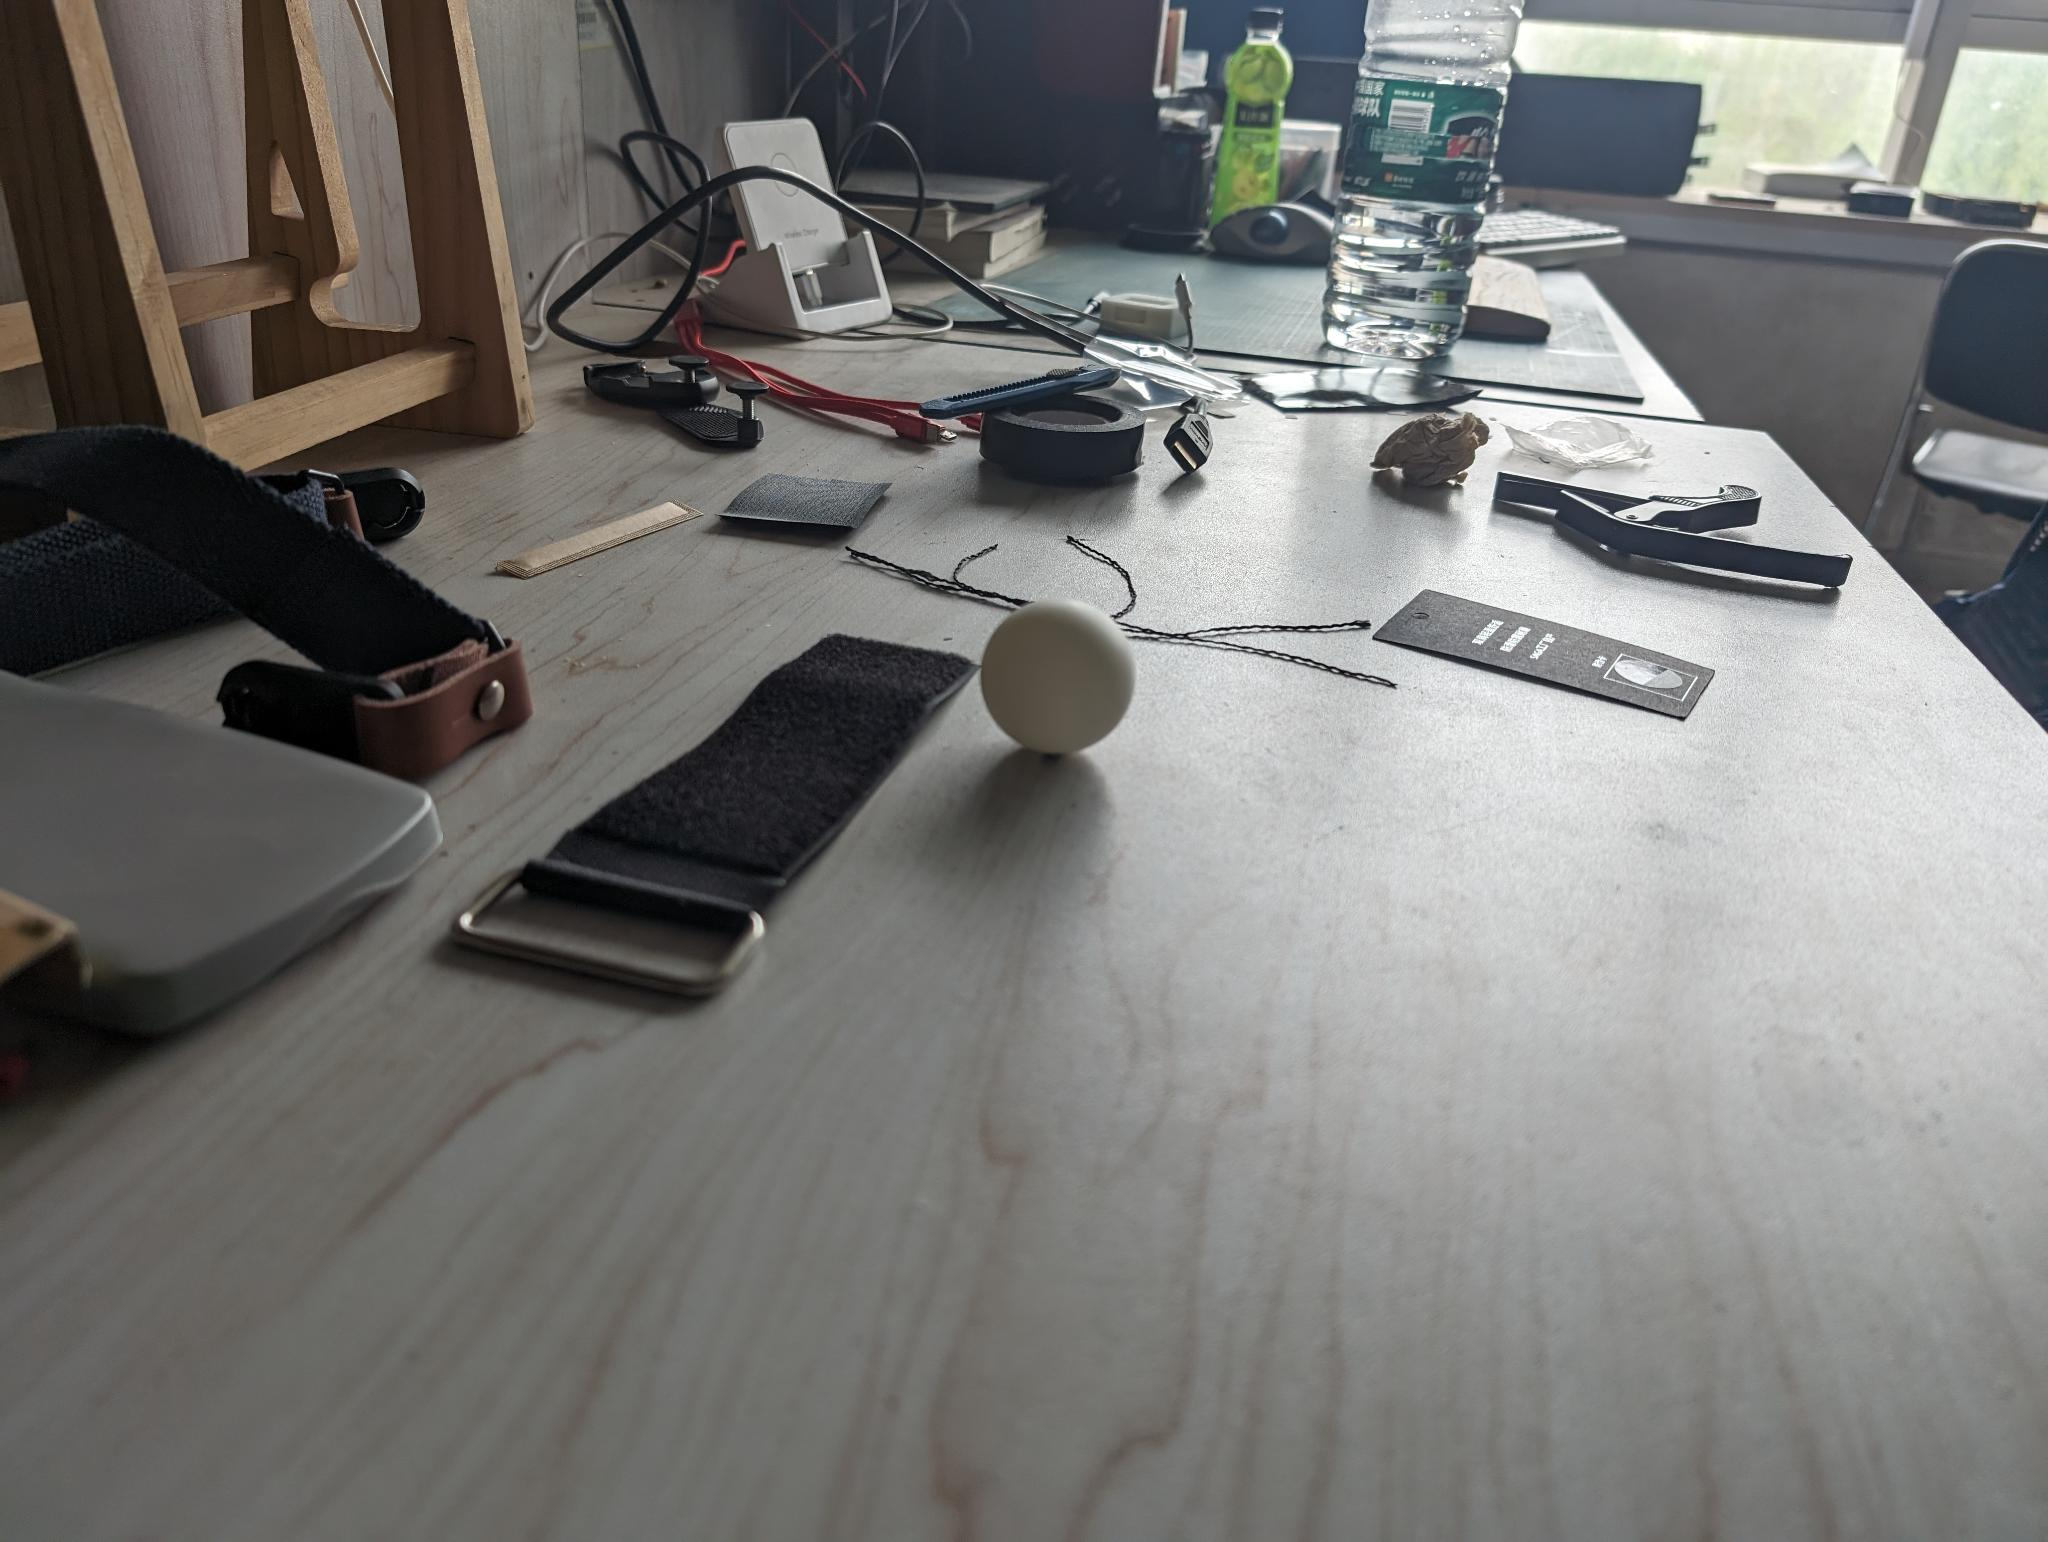ball: (976, 594, 1135, 765)
